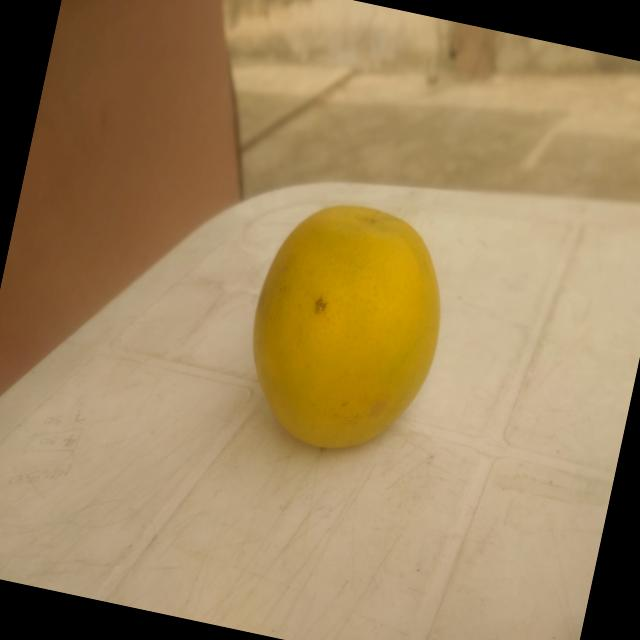Ripe orange: (228, 182, 464, 471)
